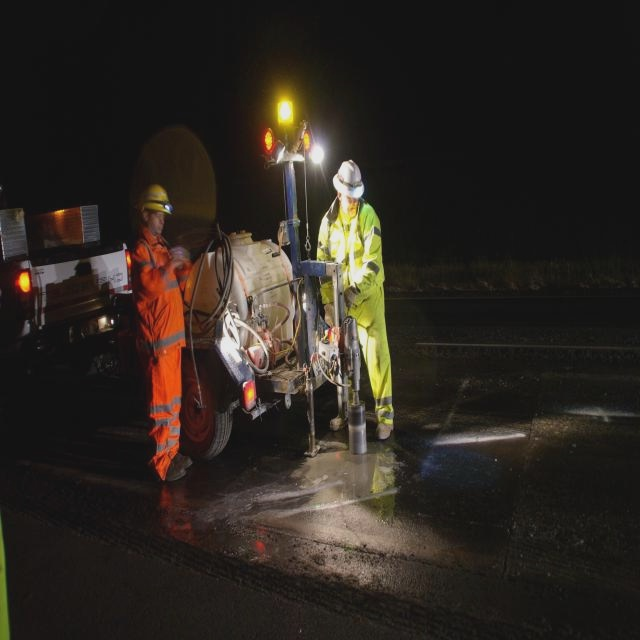Con_Casco: (332, 160, 366, 212)
Con_Chaleco: (130, 231, 187, 358), (317, 205, 380, 311)
